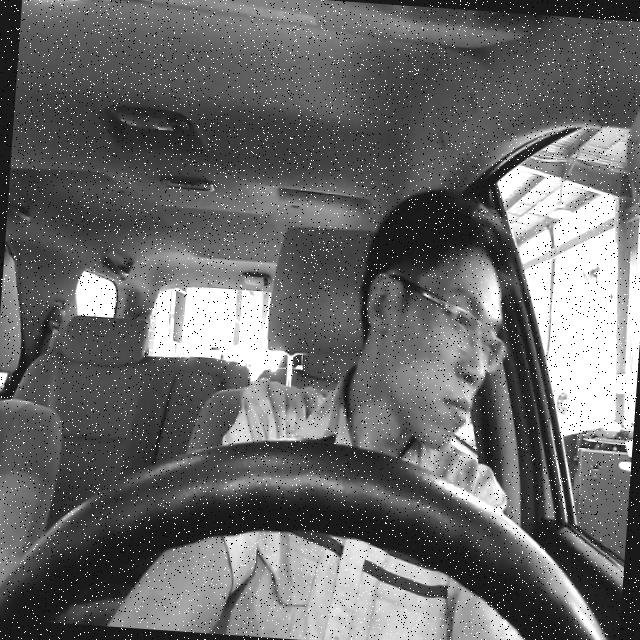focused: (353, 238, 508, 449)
